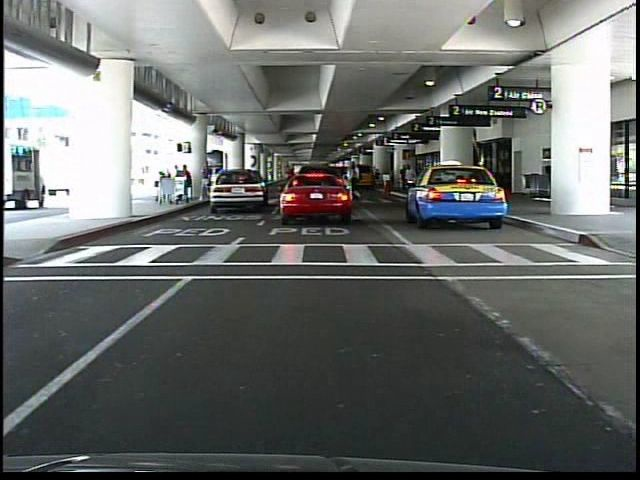person: (405, 165, 419, 199), (398, 160, 410, 196), (335, 168, 345, 201), (204, 161, 214, 182), (357, 159, 358, 201)
